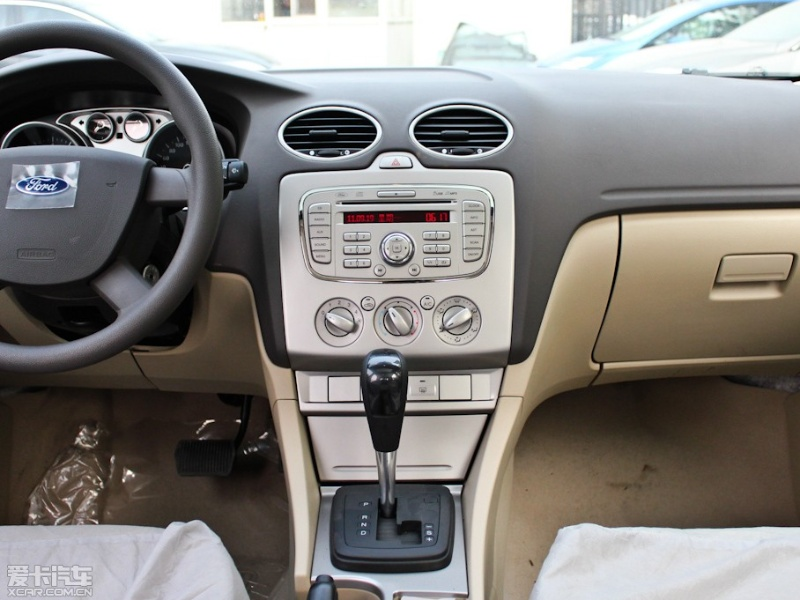control_center: (248, 64, 542, 358)
gear_lever: (301, 339, 478, 589)
odometer: (12, 51, 248, 166)
steering_wheel: (1, 53, 287, 359)
